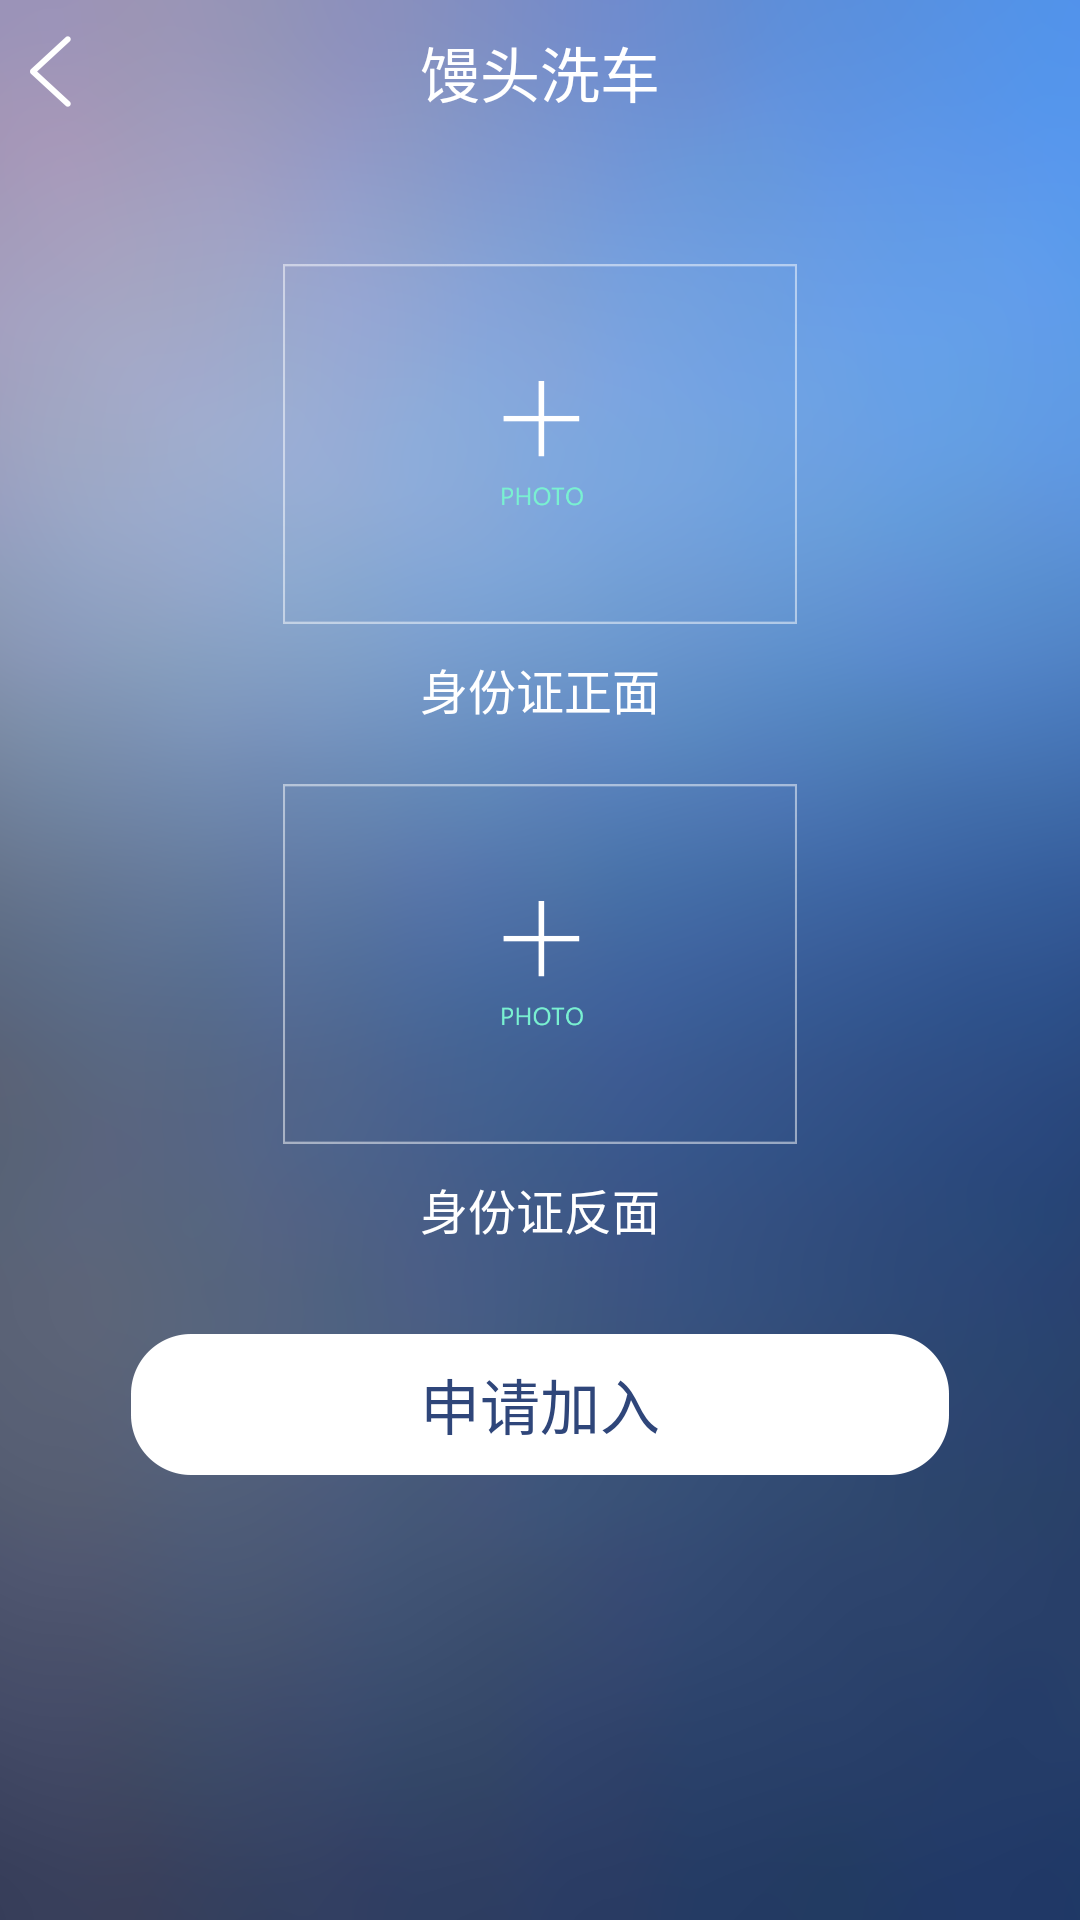

Point at icon controls on the screen. Image size 1080*1920, points as point (x, y).
titlebar back: point (50, 71)
